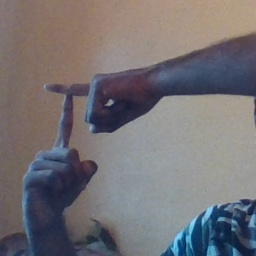T: (29, 70, 114, 166)
